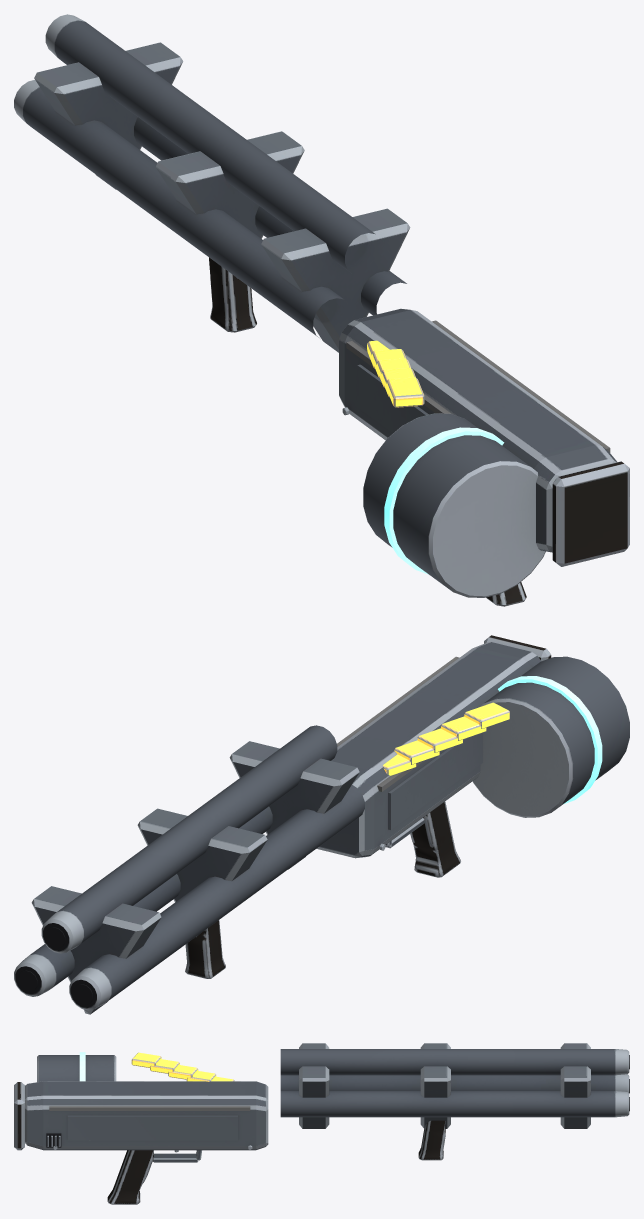
3 renders of one model, top to bottom at view 1: azimuth 30°, elevation 25°; view 2: azimuth 150°, elevation 25°; view 3: azimuth 270°, elevation 25°, orthographic. The views are drawn at different scales.
Parts seen in each view (by area): view 1: body; view 2: body; view 3: body.
Part boxes in pixels (x1,y1,x2,y2): body: [14, 14, 629, 606]; body: [14, 635, 629, 1014]; body: [14, 1043, 629, 1204].
Bounding box in the file's own units: 0.234 × 0.2726 × 1.01.
Materials: 1 (1 with a texture image).
